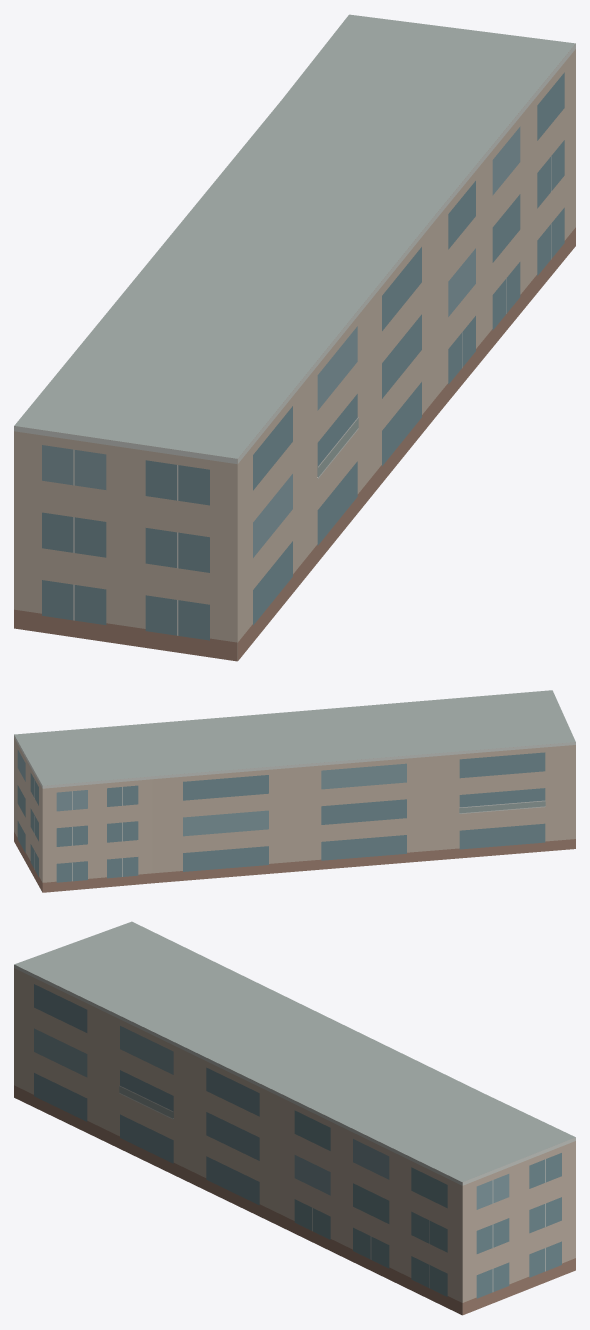
Rendered from survey-upis-32627318.glb.
The picture shows the model from 3 angles, top to bottom: view 1: azimuth 30°, elevation 25°; view 2: azimuth 150°, elevation 25°; view 3: azimuth 270°, elevation 25°; orthographic projection. The views are drawn at different scales.
Visible parts, largest first — view 1: survey-upis-32627318.tmp; view 2: survey-upis-32627318.tmp; view 3: survey-upis-32627318.tmp.
Boxes of the visible parts, x1,y1,x2,y2 form: survey-upis-32627318.tmp: (14, 14, 575, 661); survey-upis-32627318.tmp: (14, 690, 575, 892); survey-upis-32627318.tmp: (14, 921, 575, 1315).
Bounding box in the file's own units: 38.45 × 9.15 × 35.
